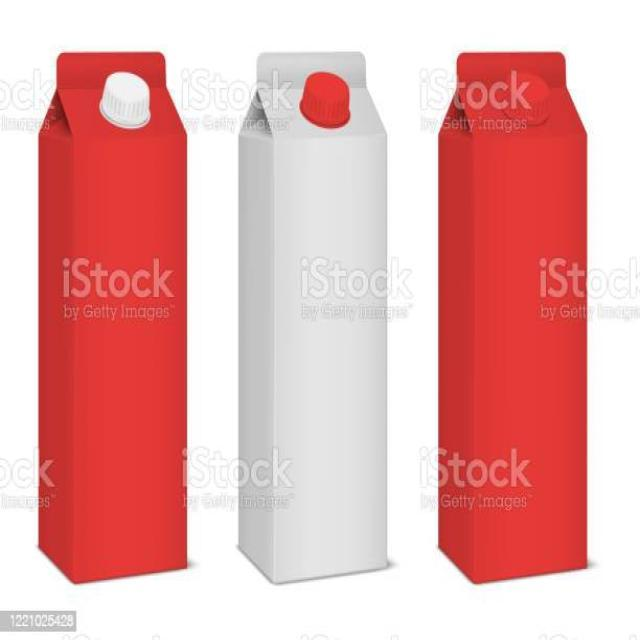Carton: (26, 28, 216, 594), (422, 37, 614, 592), (227, 32, 410, 598)
